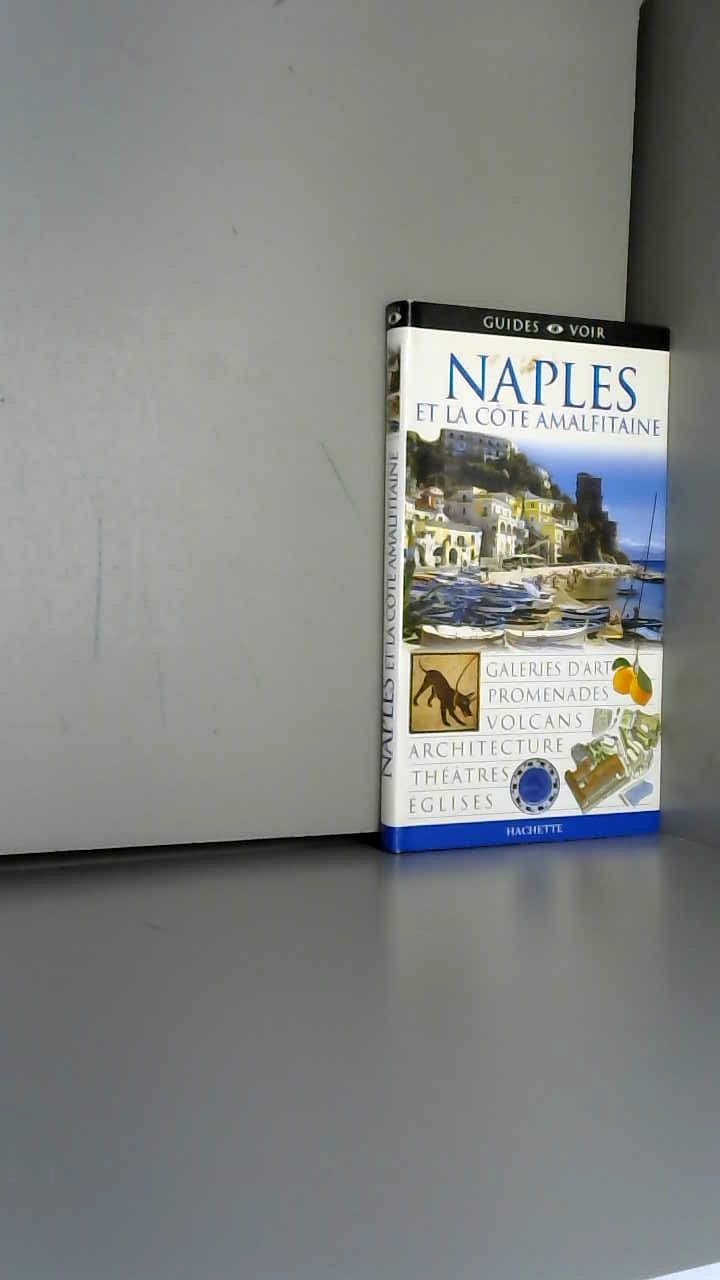book: (350, 270, 720, 869)
